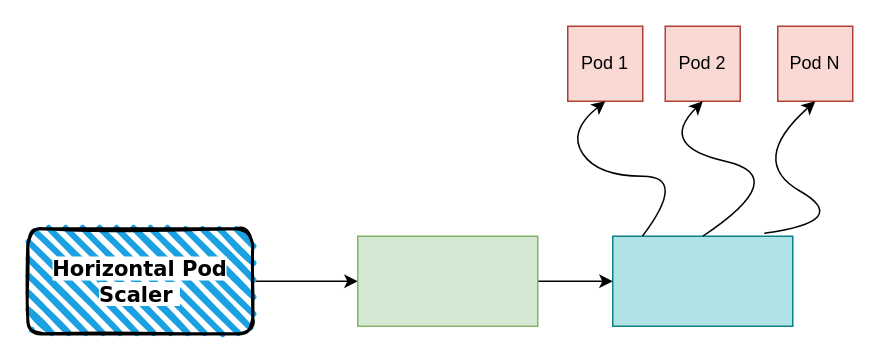
This 879x362 diagram has some shape labels left out. Each missing label, with the box of its shape:
Deployment: (356, 235, 538, 326)
Replica Set: (611, 235, 793, 326)
